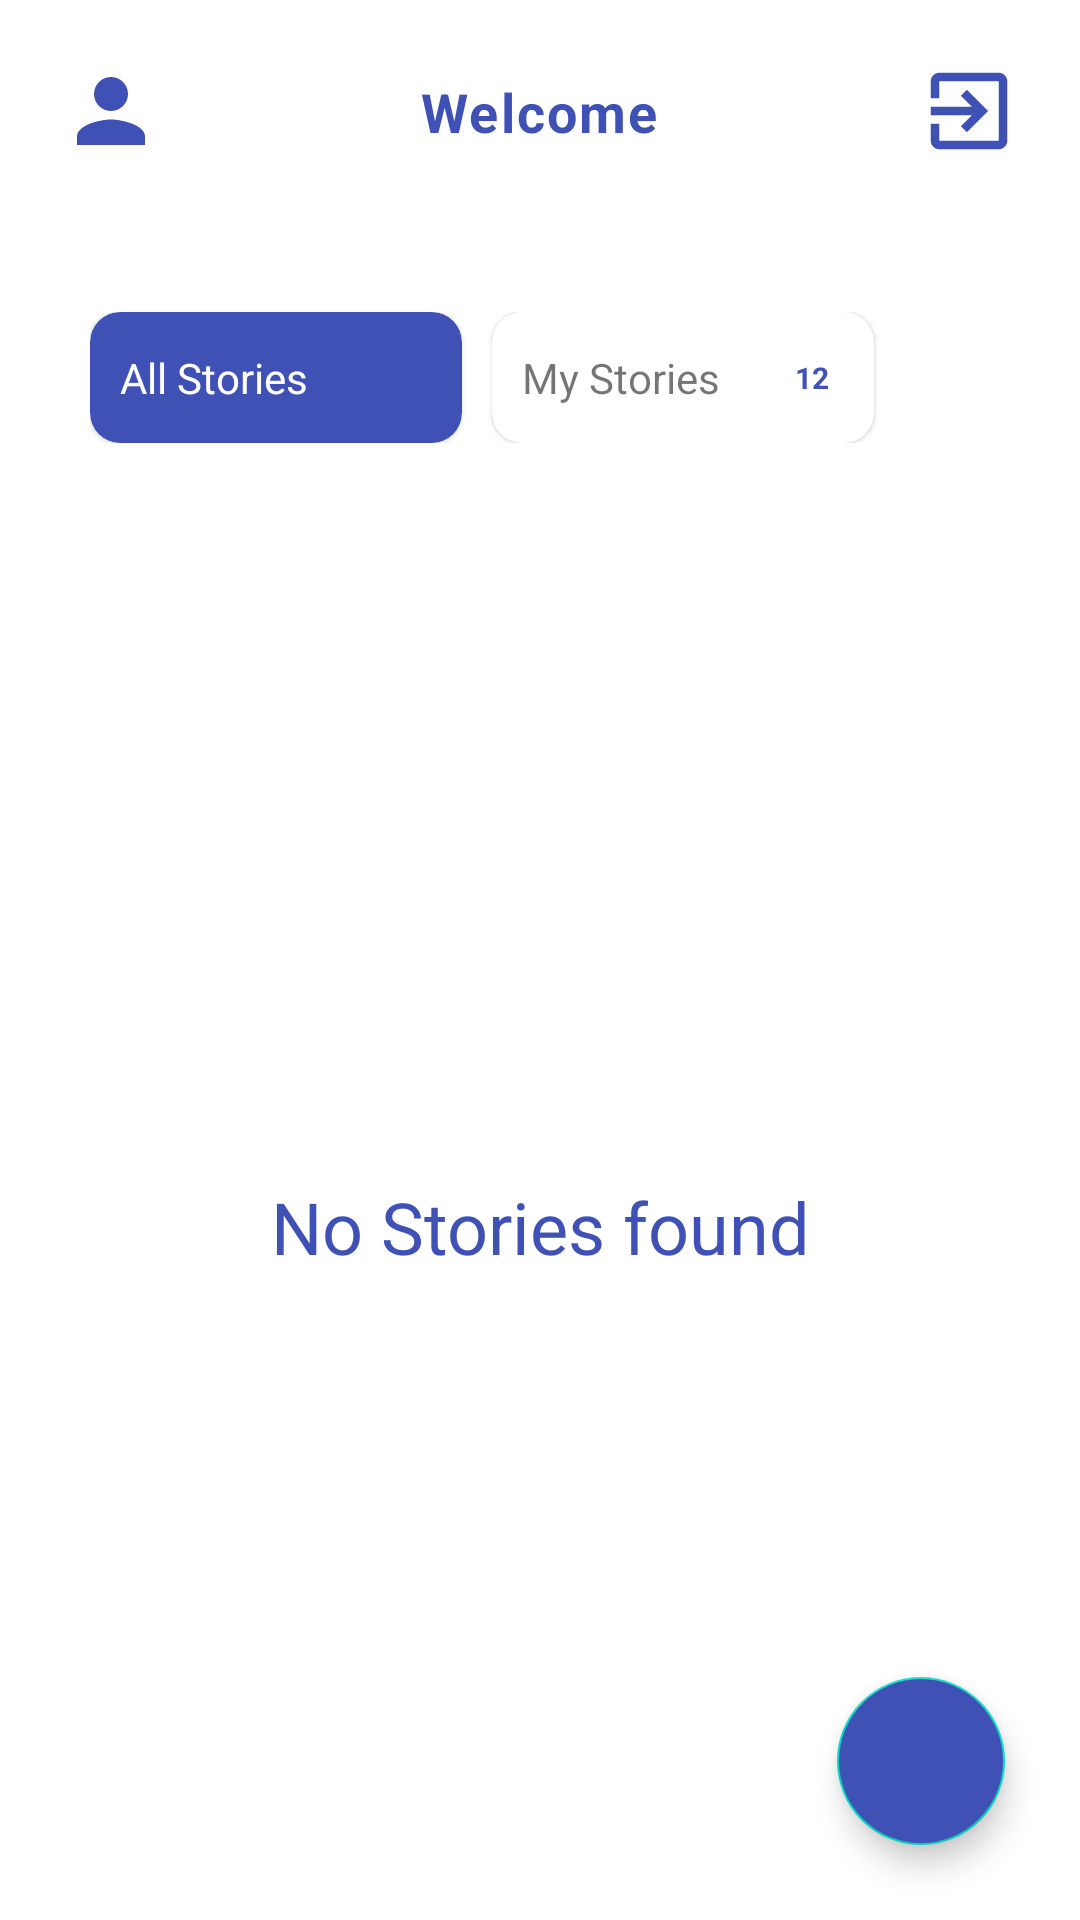

Screen size 1080 x 1920. Icon name, then its center in pixels as point (x, y):
profile: point (111, 111)
